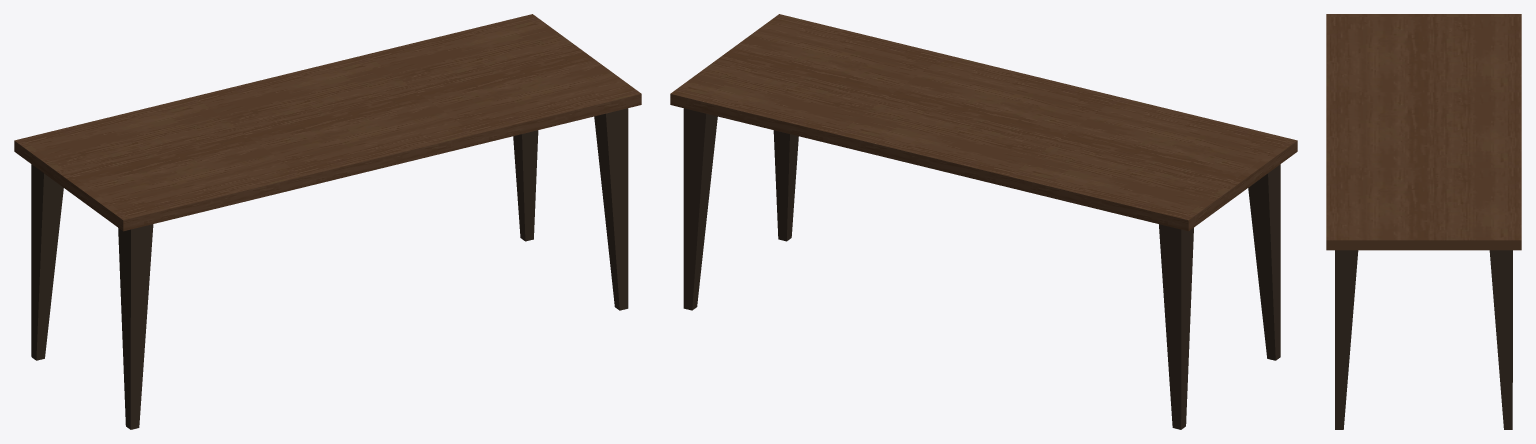
Rendered from long-table.gltf.
3 renders of one model, left to right at view 1: azimuth 30°, elevation 25°; view 2: azimuth 150°, elevation 25°; view 3: azimuth 270°, elevation 25°, orthographic. The views are drawn at different scales.
Parts seen in each view (by area): view 1: Cube.020; view 2: Cube.020; view 3: Cube.020.
Boxes of the visible parts, x1,y1,x2,y2 form: Cube.020: [14, 14, 641, 429]; Cube.020: [670, 14, 1297, 429]; Cube.020: [1326, 14, 1521, 429].
Size of the model in its own units: 1.83 by 0.7285 by 0.6662.
Materials: 2 (1 with a texture image).
